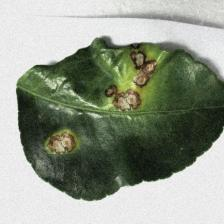canker: (33, 38, 161, 159)
